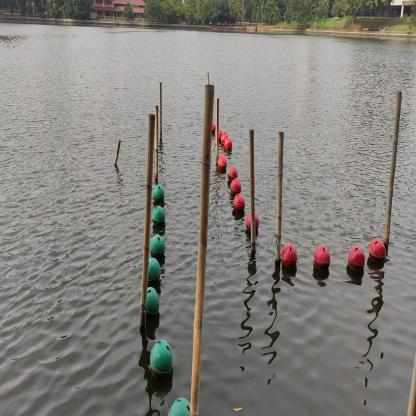green_buoy: (149, 338, 173, 380), (145, 286, 160, 318), (146, 257, 162, 286), (150, 234, 166, 258), (152, 205, 166, 227), (152, 184, 166, 202)
red_buoy: (368, 238, 387, 264), (348, 244, 365, 271), (314, 244, 330, 272), (281, 242, 298, 268), (246, 212, 260, 232), (232, 192, 245, 212), (230, 178, 242, 195), (227, 166, 238, 181), (217, 155, 227, 170), (224, 137, 233, 151), (221, 131, 228, 144), (211, 121, 216, 133), (218, 128, 223, 140)
